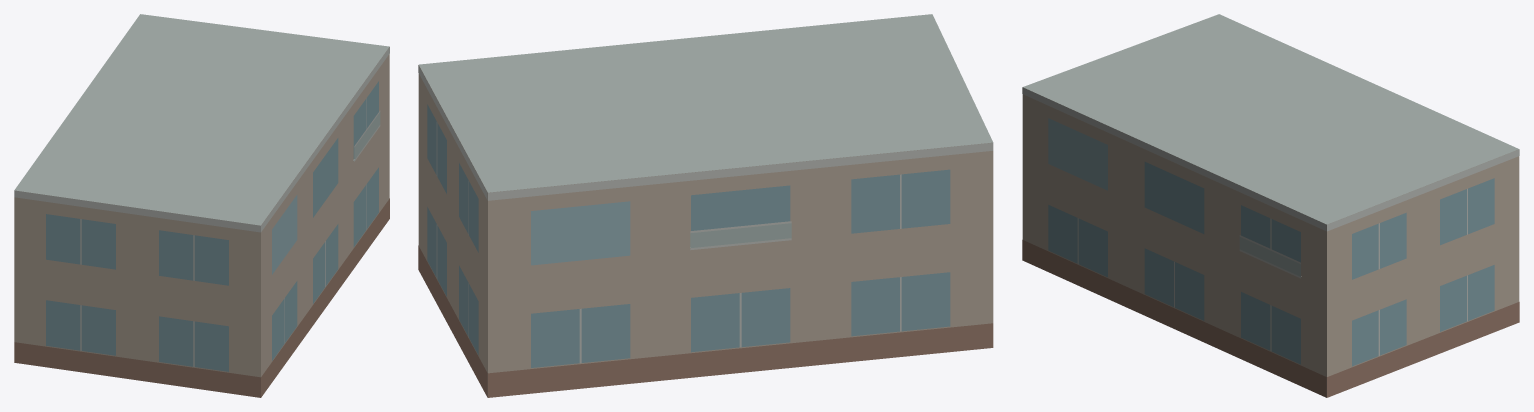
The model's file is survey-upis-32715206.glb.
The picture shows the model from 3 angles, left to right: view 1: azimuth 30°, elevation 25°; view 2: azimuth 150°, elevation 25°; view 3: azimuth 270°, elevation 25°; orthographic projection. The views are drawn at different scales.
Parts seen in each view (by area): view 1: survey-upis-32715206.tmp; view 2: survey-upis-32715206.tmp; view 3: survey-upis-32715206.tmp.
Part boxes in pixels (x1,y1,x2,y2): survey-upis-32715206.tmp: (14, 14, 389, 397); survey-upis-32715206.tmp: (418, 14, 993, 397); survey-upis-32715206.tmp: (1022, 14, 1519, 397).
Bounding box in the file's own units: 15.91 × 6.1 × 15.86.
